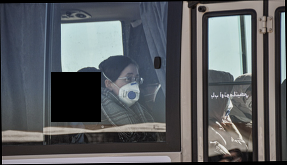with_mask: (115, 70, 142, 108)
